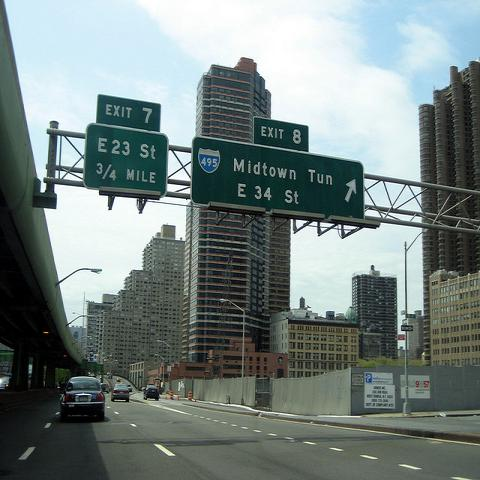car: (60, 376, 106, 420), (111, 384, 129, 402), (143, 385, 159, 401), (100, 382, 110, 394), (127, 384, 132, 392), (116, 378, 120, 382)
